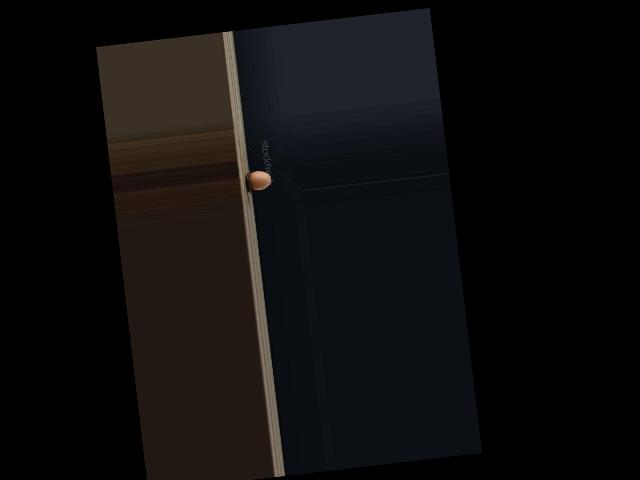egg: (249, 170, 271, 191)
